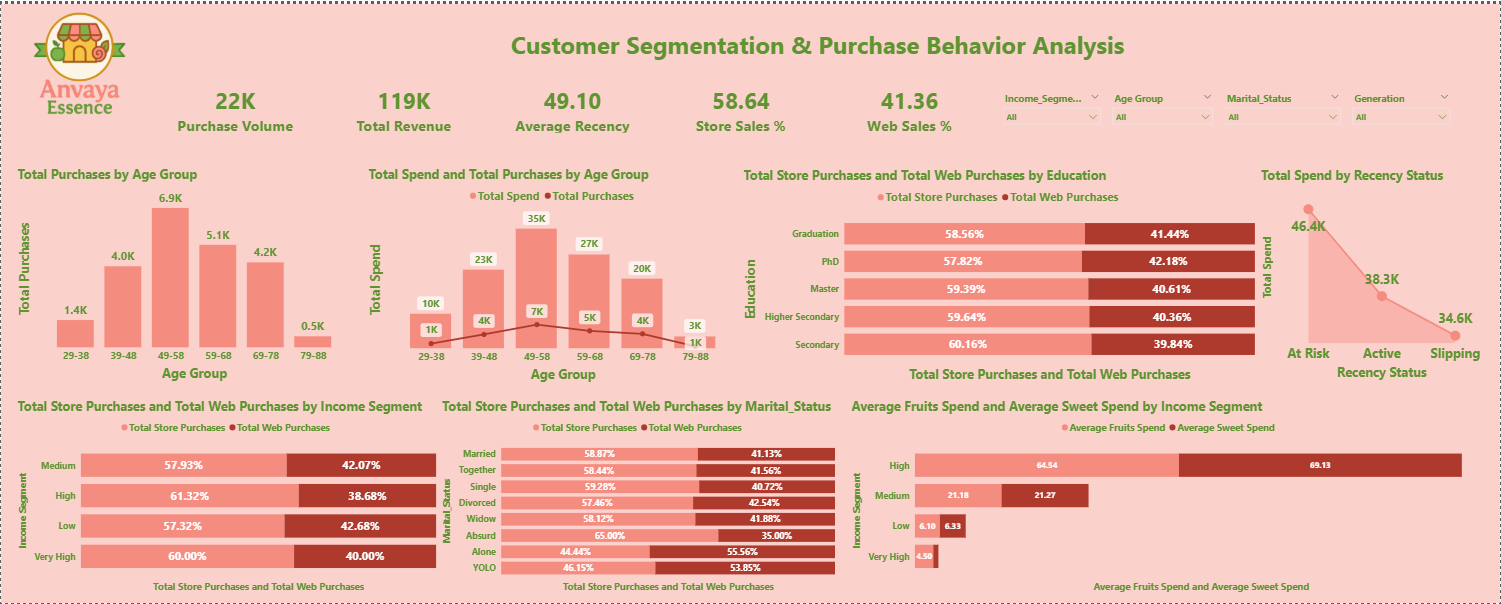

The dashboard page shown, as its layout file describes it:
{"tool":"powerbi","page":{"name":"Purchase Behavior","canvas":[2500,1000],"ordinal":1},"visuals":[{"type":"cardVisual","fields":{"Data":["Sum(Table.Total_Purchases)","Sum(Table.MntTotal_Spent)","Avg(Table.Recency)","Table.Measure","Table.Web Sales %"]},"box":[245,132.5,1415,87.5],"z":0},{"type":"hundredPercentStackedBarChart","fields":{"Category":["Table.Income_Segment"],"Y":["Sum(Table.NumStorePurchases)","Sum(Table.NumWebPurchases)"]},"box":[22.5,655,707.5,330],"z":1000},{"type":"clusteredColumnChart","fields":{"Category":["Table.Age Group"],"Y":["Sum(Table.Total_Purchases)"]},"box":[22,268,566,366],"z":2000},{"type":"lineChart","fields":{"Category":["Table.Recency_Status"],"Y":["Sum(Table.MntTotal_Spent)"]},"box":[2095,270,387.5,362.5],"z":3000},{"type":"lineClusteredColumnComboChart","fields":{"Y":["Sum(Table.MntTotal_Spent)"],"Category":["Table.Age Group"],"Y2":["Sum(Table.Total_Purchases)"]},"box":[607.5,267.5,625,367.5],"z":4000},{"type":"barChart","fields":{"Category":["Table.Income_Segment"],"Y":["Avg(Table.MntFruits)","Avg(Table.MntSweetProducts)"]},"box":[1412.5,655,1070,330],"z":5000},{"type":"image","box":[22,0,218,220],"z":6000},{"type":"hundredPercentStackedBarChart","fields":{"Category":["Table.Education"],"Y":["Sum(Table.NumStorePurchases)","Sum(Table.NumWebPurchases)"]},"box":[1232.5,270,862.5,365],"z":7000},{"type":"hundredPercentStackedBarChart","fields":{"Category":["Table.Marital_Status"],"Y":["Sum(Table.NumStorePurchases)","Sum(Table.NumWebPurchases)"]},"box":[730,655,665,330],"z":8000},{"type":"textbox","title":"Customer Segmentation & Purchase Behavior Analysis","box":[240,40,2242.5,60],"z":9000},{"type":"slicer","fields":{"Values":["Table.Income_Segment"]},"box":[1660,140,182.5,80],"z":10000},{"type":"slicer","fields":{"Values":["Table.Age Group"]},"box":[1842.5,140,187.5,80],"z":11000},{"type":"slicer","fields":{"Values":["Table.Marital_Status"]},"box":[2030,140,212.5,80],"z":12000},{"type":"slicer","fields":{"Values":["Table.Generation"]},"box":[2242.5,140,182.5,80],"z":13000}]}

Visuals, with their boxes in screenshot pixels (x1, y1, x2, y2), scaled from the page's 2500x1000 canvas onto the 1501x604 screenshot:
cardVisual - Sum(Table.Total_Purchases) x Sum(Table.MntTotal_Spent): (x1=147, y1=80, x2=997, y2=133)
hundredPercentStackedBarChart - Table.Income_Segment x Sum(Table.NumStorePurchases): (x1=14, y1=396, x2=438, y2=595)
clusteredColumnChart - Table.Age Group x Sum(Table.Total_Purchases): (x1=13, y1=162, x2=353, y2=383)
lineChart - Table.Recency_Status x Sum(Table.MntTotal_Spent): (x1=1258, y1=163, x2=1490, y2=382)
lineClusteredColumnComboChart - Sum(Table.MntTotal_Spent) x Table.Age Group: (x1=365, y1=162, x2=740, y2=384)
barChart - Table.Income_Segment x Avg(Table.MntFruits): (x1=848, y1=396, x2=1490, y2=595)
image: (x1=13, y1=0, x2=144, y2=133)
hundredPercentStackedBarChart - Table.Education x Sum(Table.NumStorePurchases): (x1=740, y1=163, x2=1258, y2=384)
hundredPercentStackedBarChart - Table.Marital_Status x Sum(Table.NumStorePurchases): (x1=438, y1=396, x2=838, y2=595)
"Customer Segmentation & Purchase Behavior Analysis" textbox: (x1=144, y1=24, x2=1490, y2=60)
slicer - Table.Income_Segment: (x1=997, y1=85, x2=1106, y2=133)
slicer - Table.Age Group: (x1=1106, y1=85, x2=1219, y2=133)
slicer - Table.Marital_Status: (x1=1219, y1=85, x2=1346, y2=133)
slicer - Table.Generation: (x1=1346, y1=85, x2=1456, y2=133)
